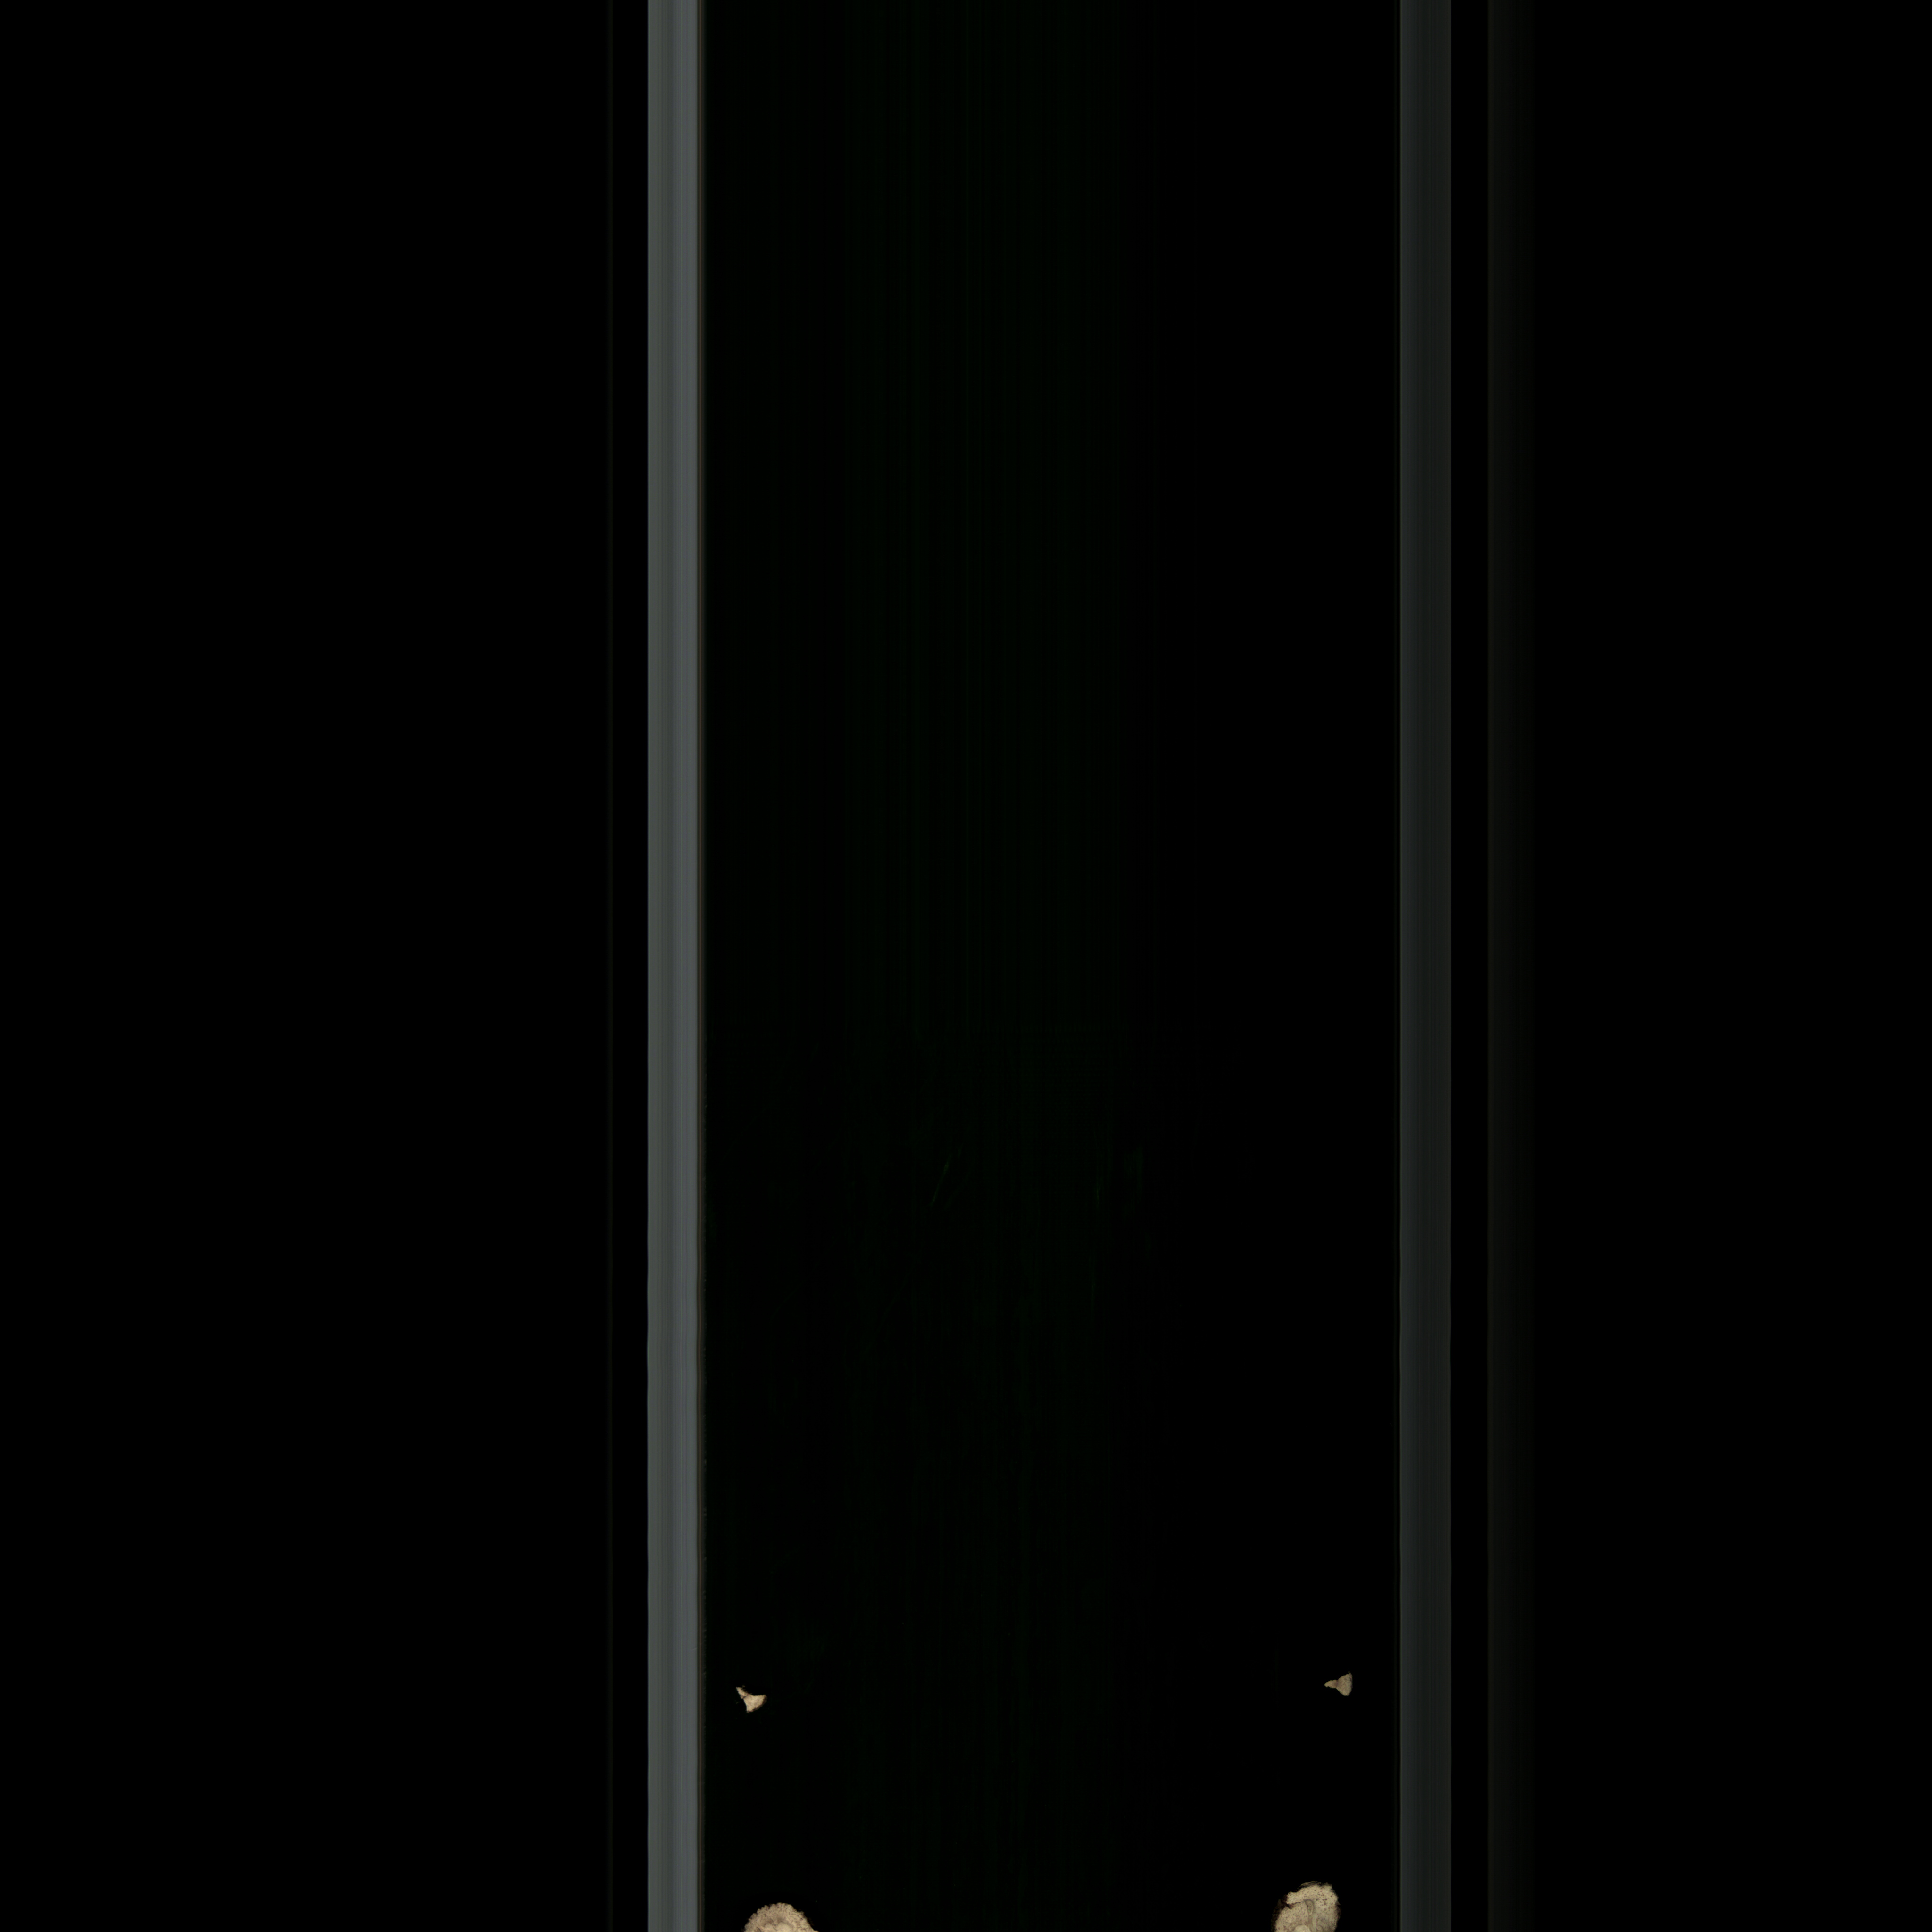distortion: (1253, 1867, 1355, 1932)
dreg: (725, 1675, 778, 1721), (1313, 1665, 1368, 1709)
